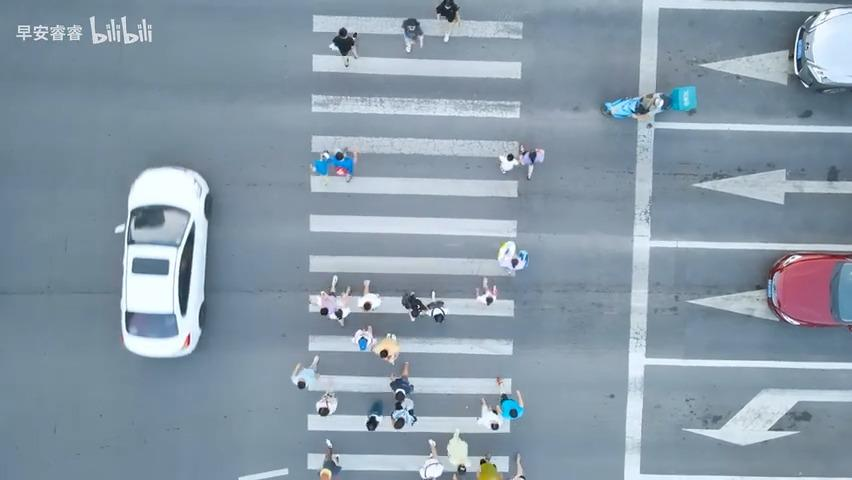Civilian: (309, 148, 358, 184), (319, 274, 352, 326), (627, 91, 670, 123), (496, 376, 524, 419), (329, 27, 358, 67), (446, 428, 469, 477), (290, 354, 321, 390), (497, 240, 528, 276), (390, 388, 417, 429), (418, 438, 444, 479), (435, 0, 460, 42), (518, 144, 545, 180), (389, 360, 414, 395), (400, 17, 424, 53), (402, 290, 429, 322), (318, 438, 339, 479), (476, 397, 502, 430), (333, 148, 358, 182), (373, 332, 399, 364), (309, 149, 331, 185), (358, 279, 381, 311), (476, 452, 503, 479), (426, 289, 446, 323), (351, 324, 375, 351), (475, 276, 497, 305), (315, 389, 337, 416), (365, 399, 383, 431), (498, 152, 519, 174), (511, 452, 526, 479), (319, 468, 332, 479)
